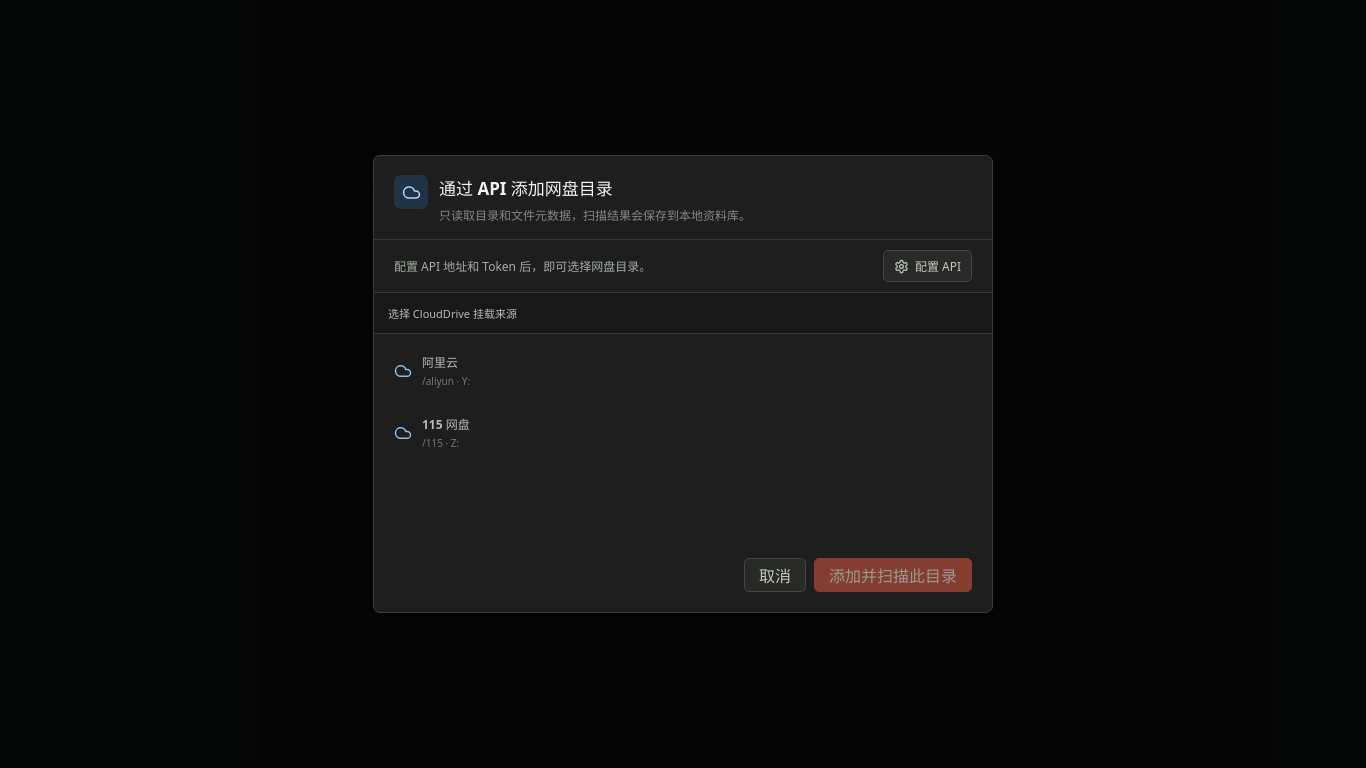
Scenario: CloudDriveFolderDialog › browses API folders and adds the selected remote source
Later steps or results of the test are not shown.
Click the button "115 网盘 /115 · Z:" at (446, 424), box [382,404,984,461]
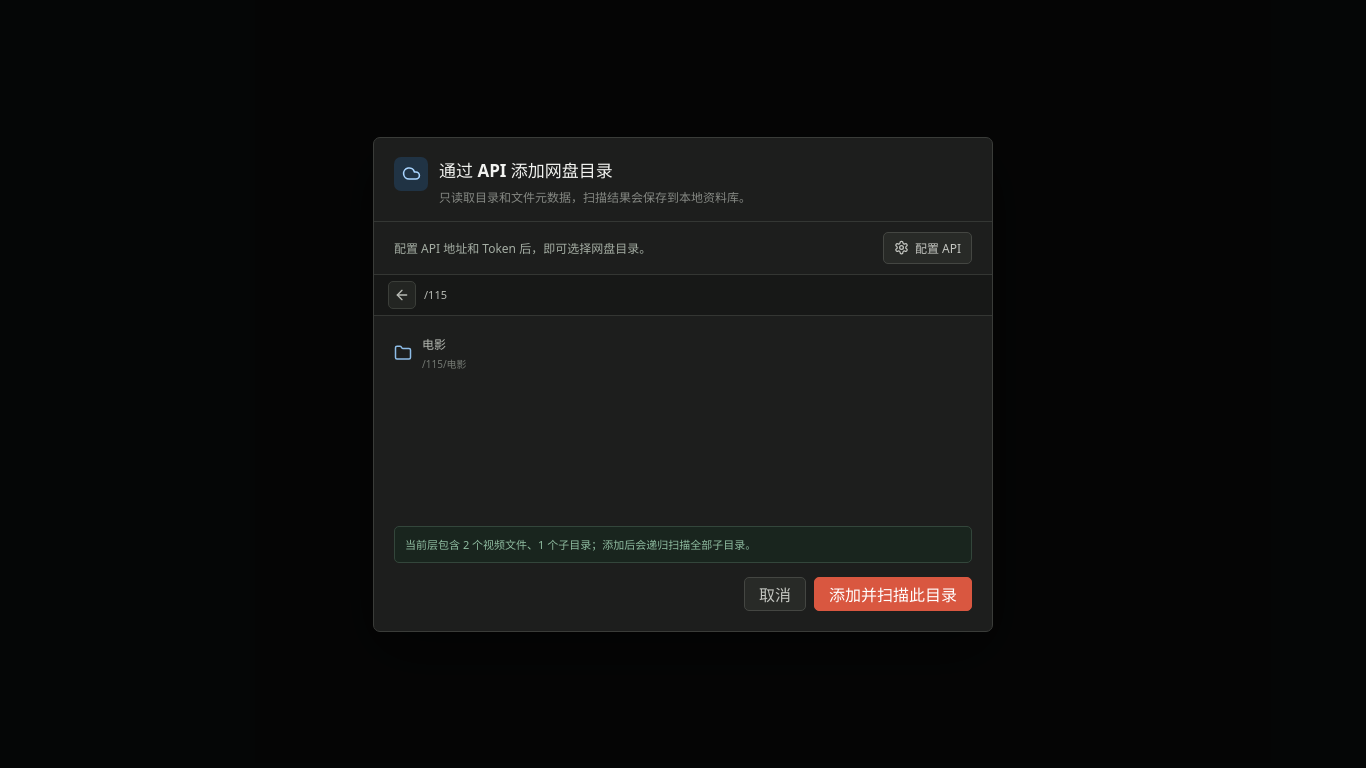
Click the button "电影 /115/电影" at (444, 364), box [382,324,984,382]
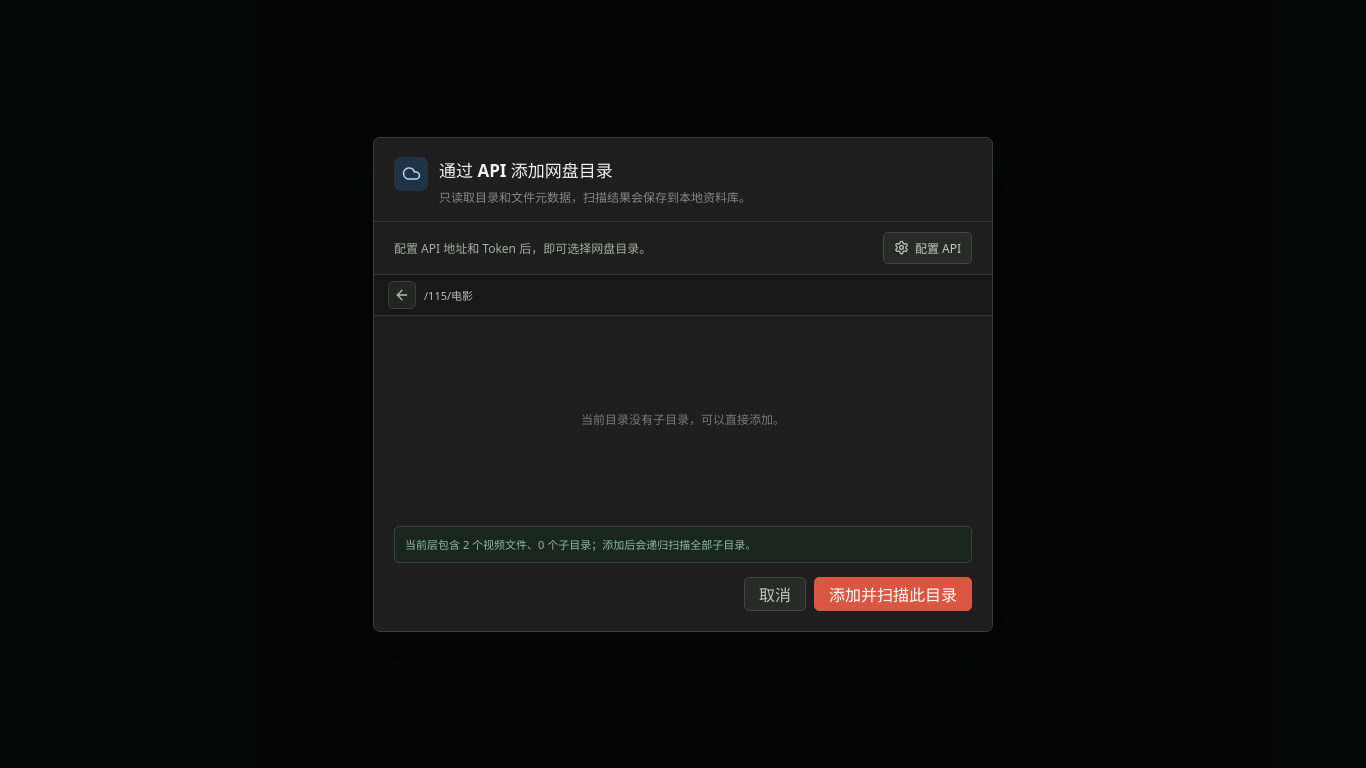
Check: the text "/115/电影" is shown, box [424,286,473,302]
